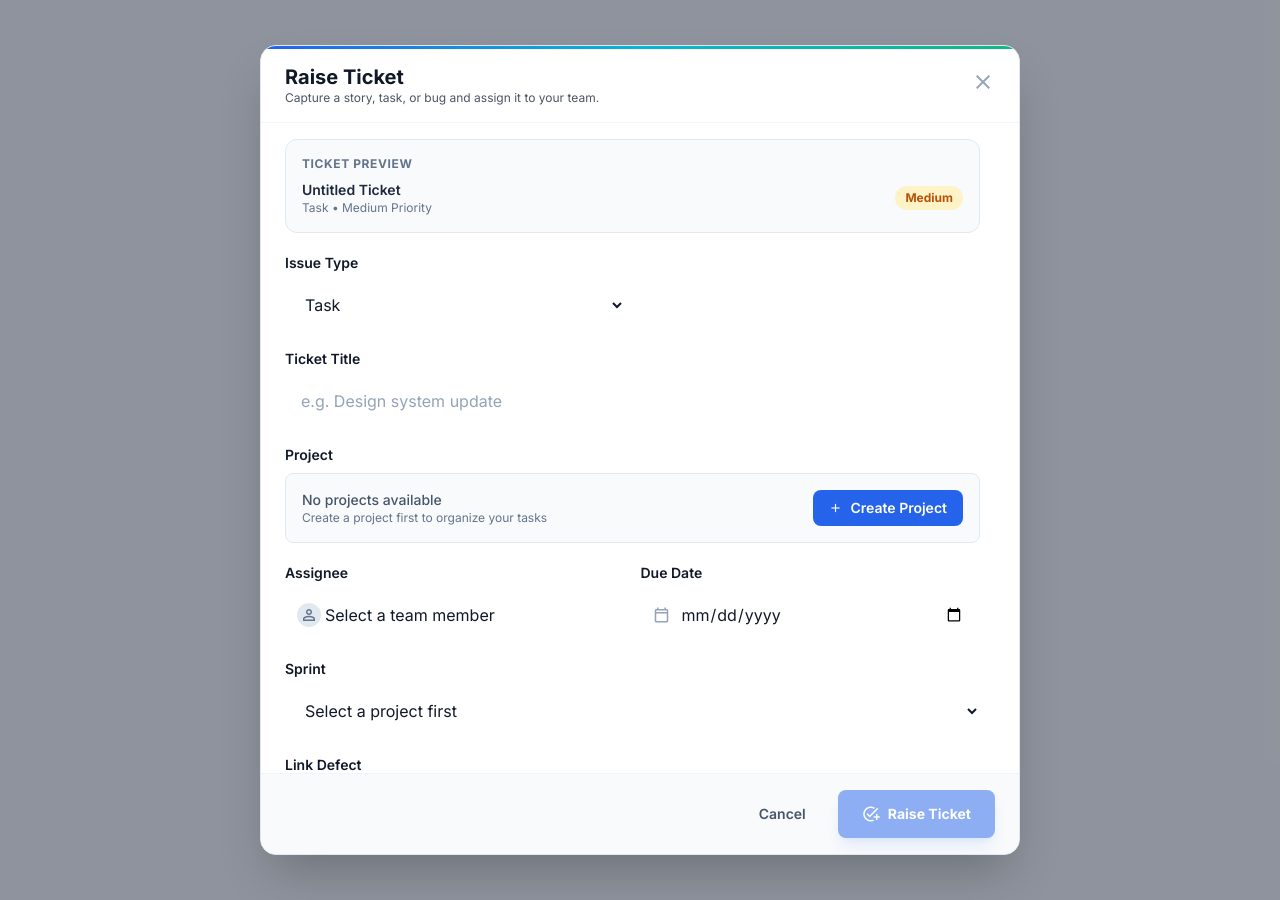
CreateTaskModal › shows backend validation details when create task fails
Step 1. Type "Create task validation" into the field with placeholder "e.g. Design system update" → (632, 401), box [285, 377, 980, 425]
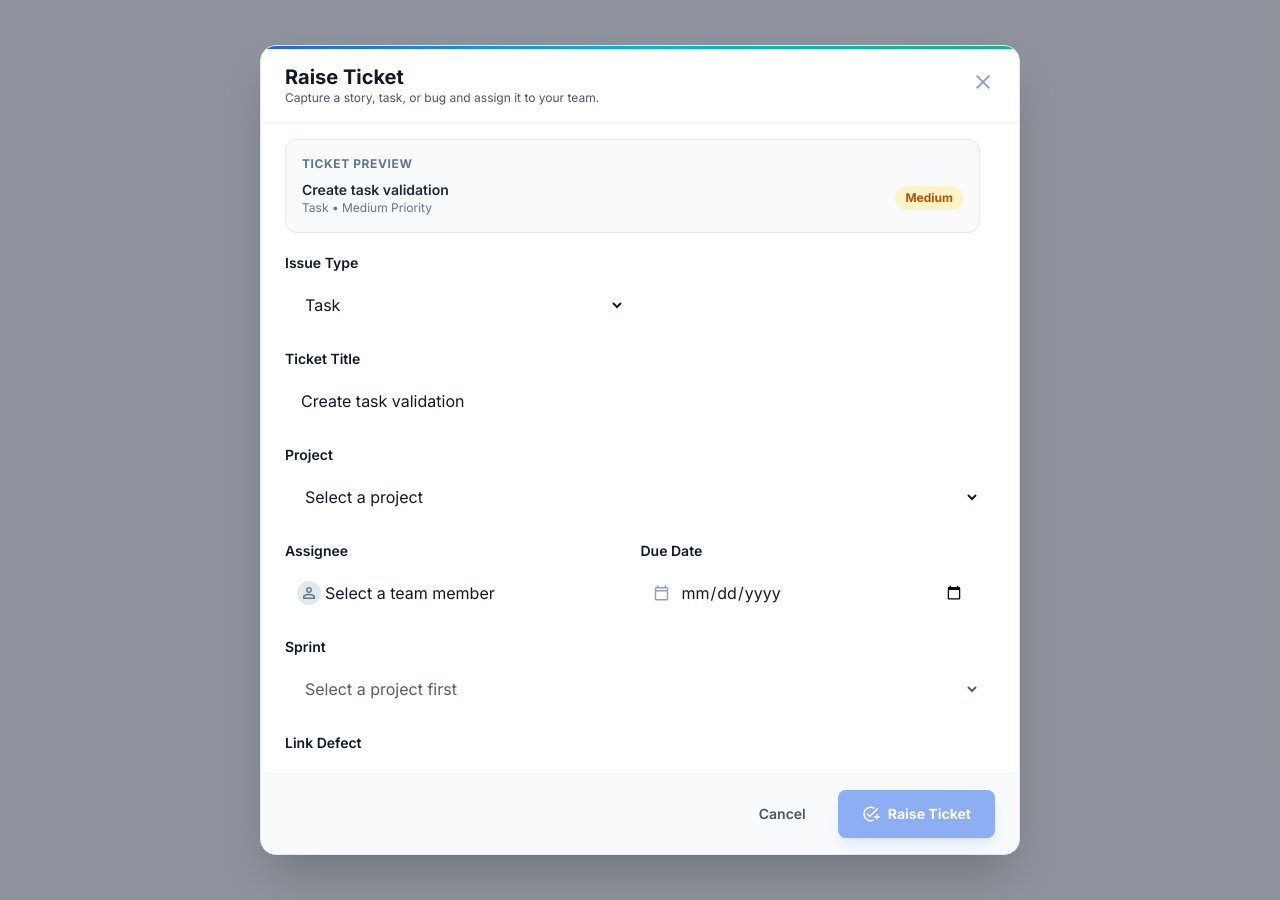
Step 2. Select "Task Tracker" in the dropdown named "Project selection" → (632, 497), box [285, 473, 980, 521]
(page scrolled)
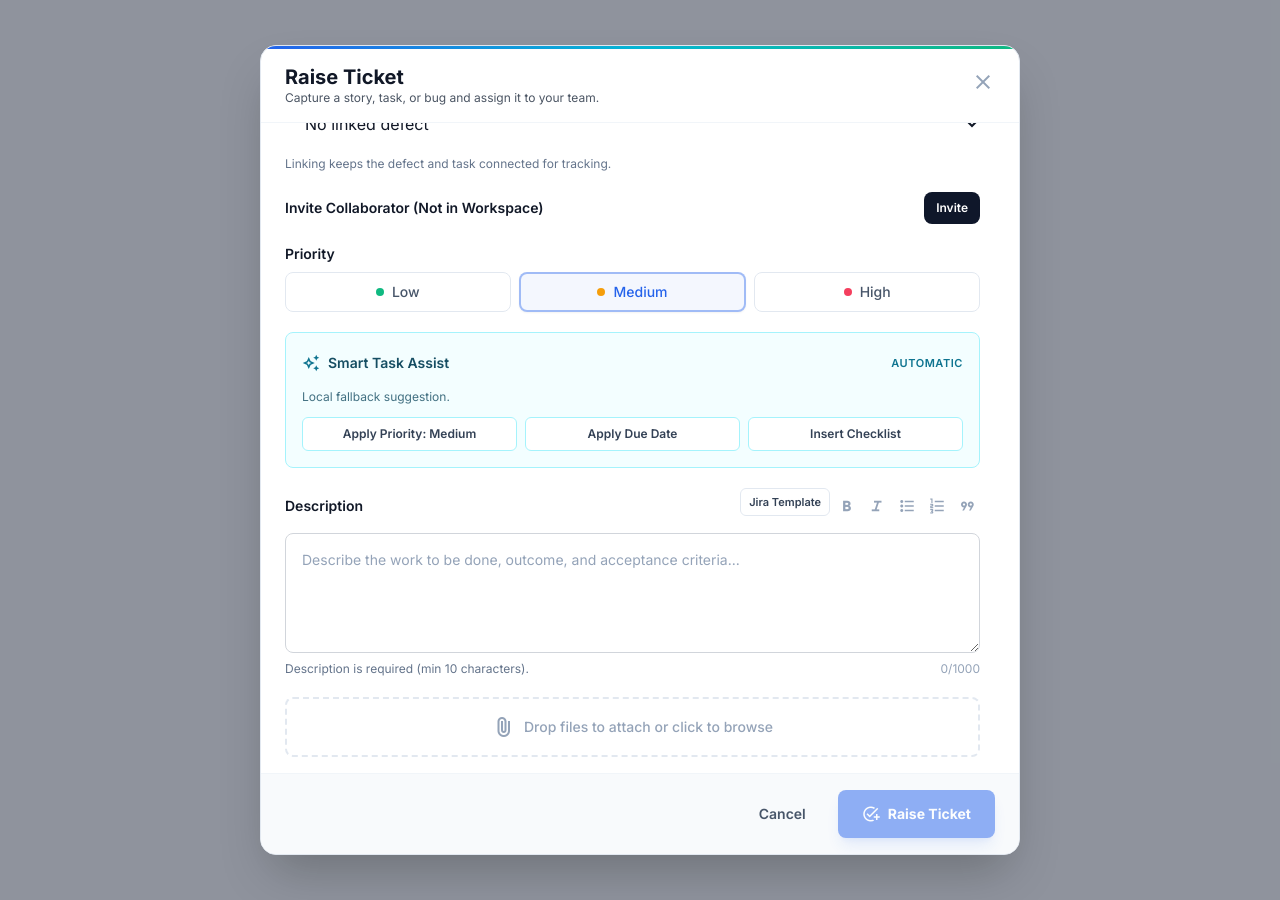
Step 3. Replace the text in the text box with placeholder "Describe the work to be done, outcome, and acceptance criteria..." with "Surface the backend validation details in the modal." → (632, 593), box [285, 533, 980, 653]
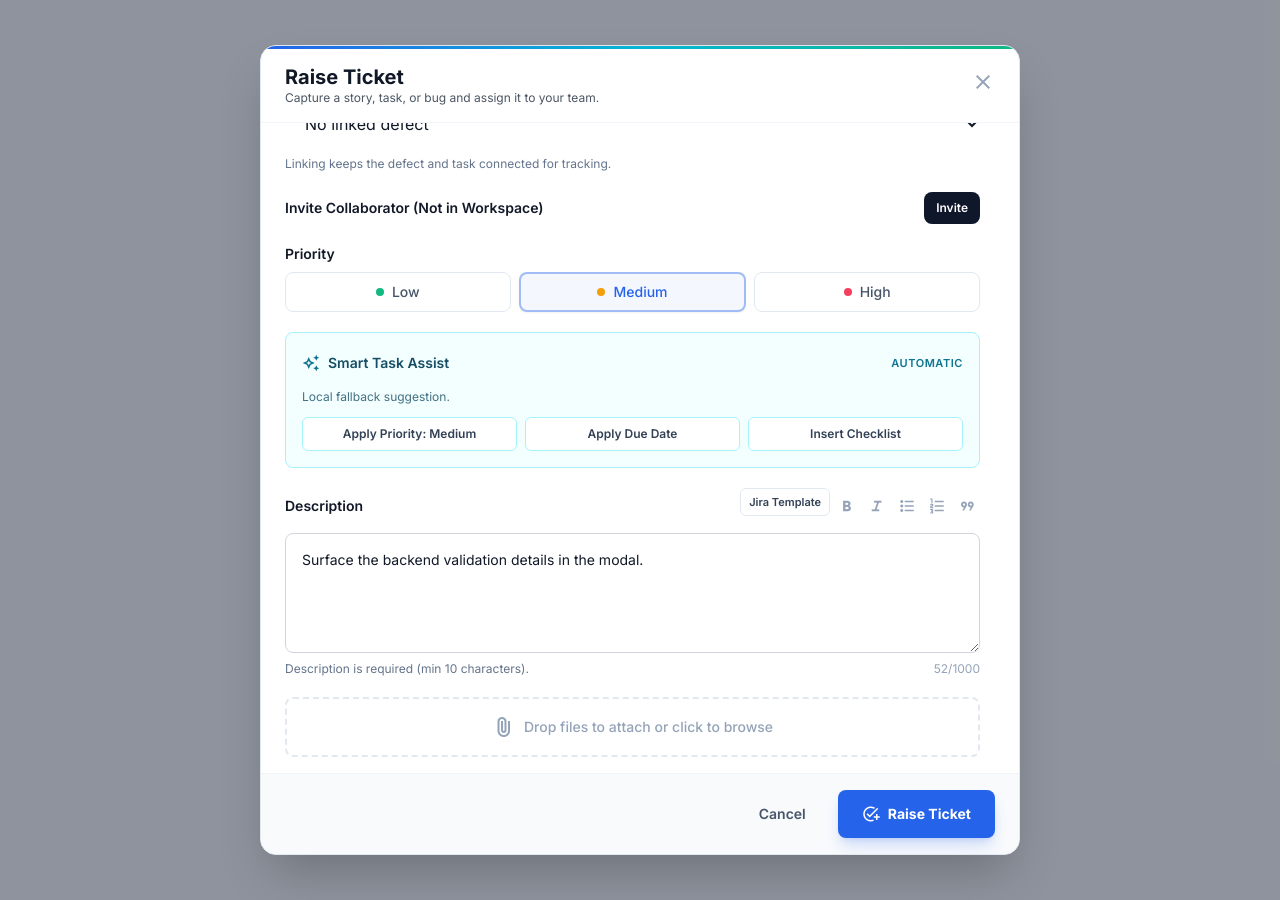
Step 4. Click the button "Raise Ticket" → (916, 814), box [838, 790, 995, 838]
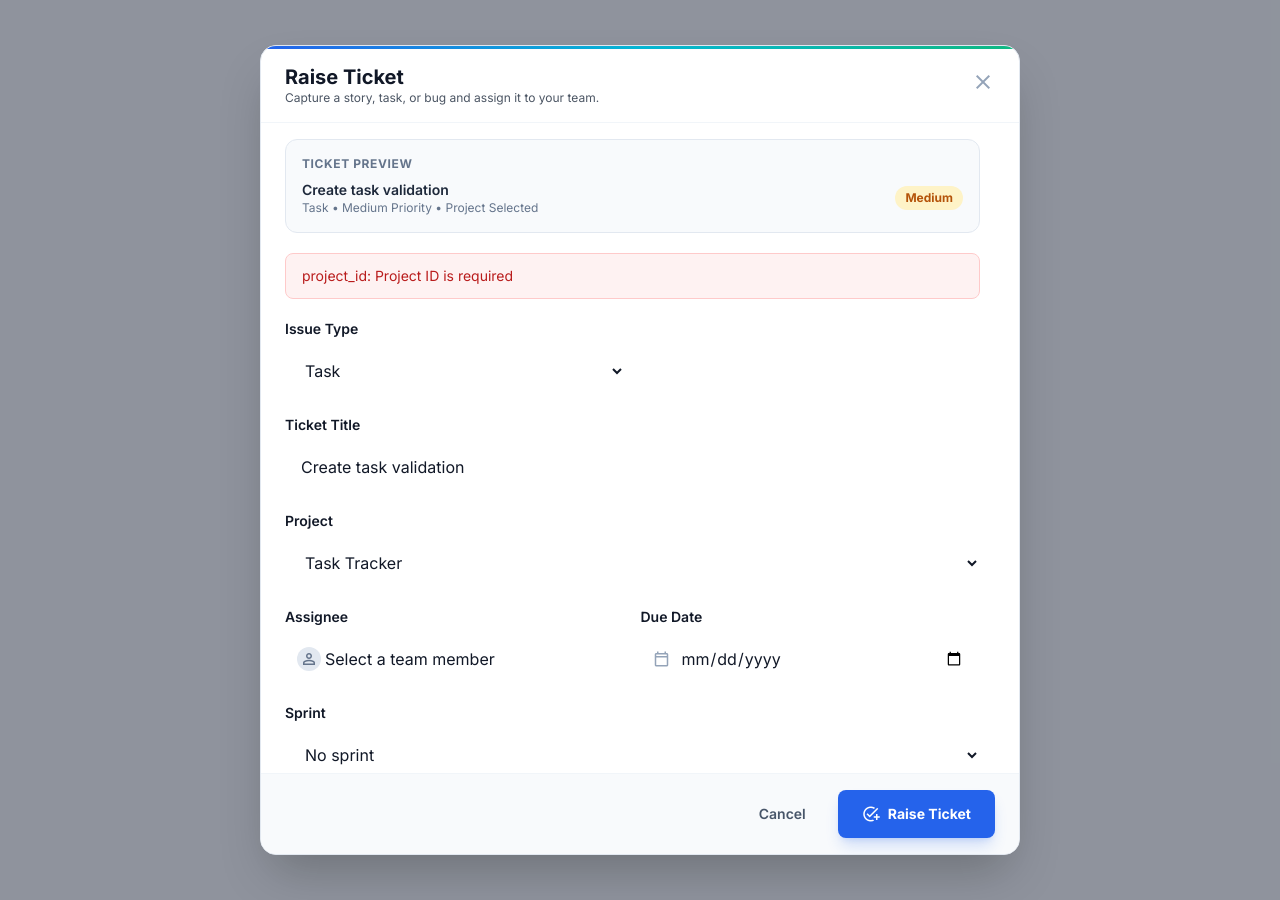
Expected: the text "project_id: Project ID is required" is shown, [285, 253, 980, 299]
